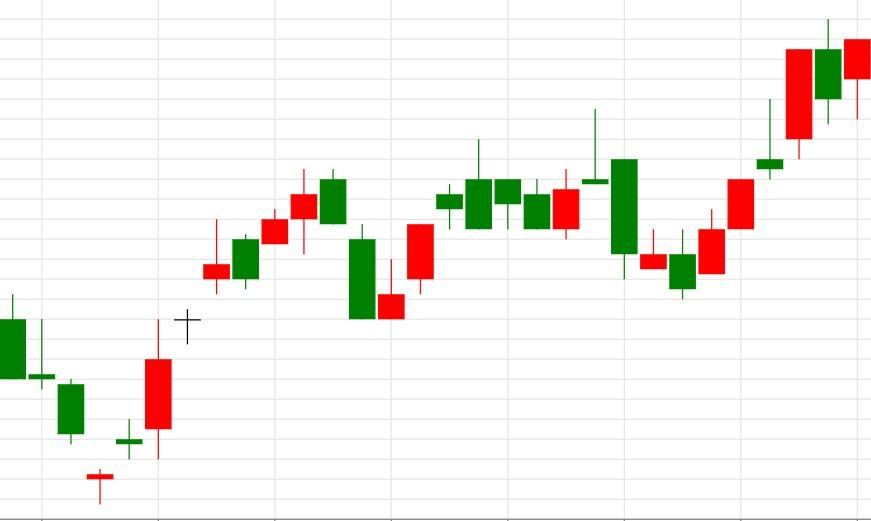bullish_engulfing_rise: (465, 137, 580, 239)
inverse_hammer_rise: (319, 168, 405, 319)
